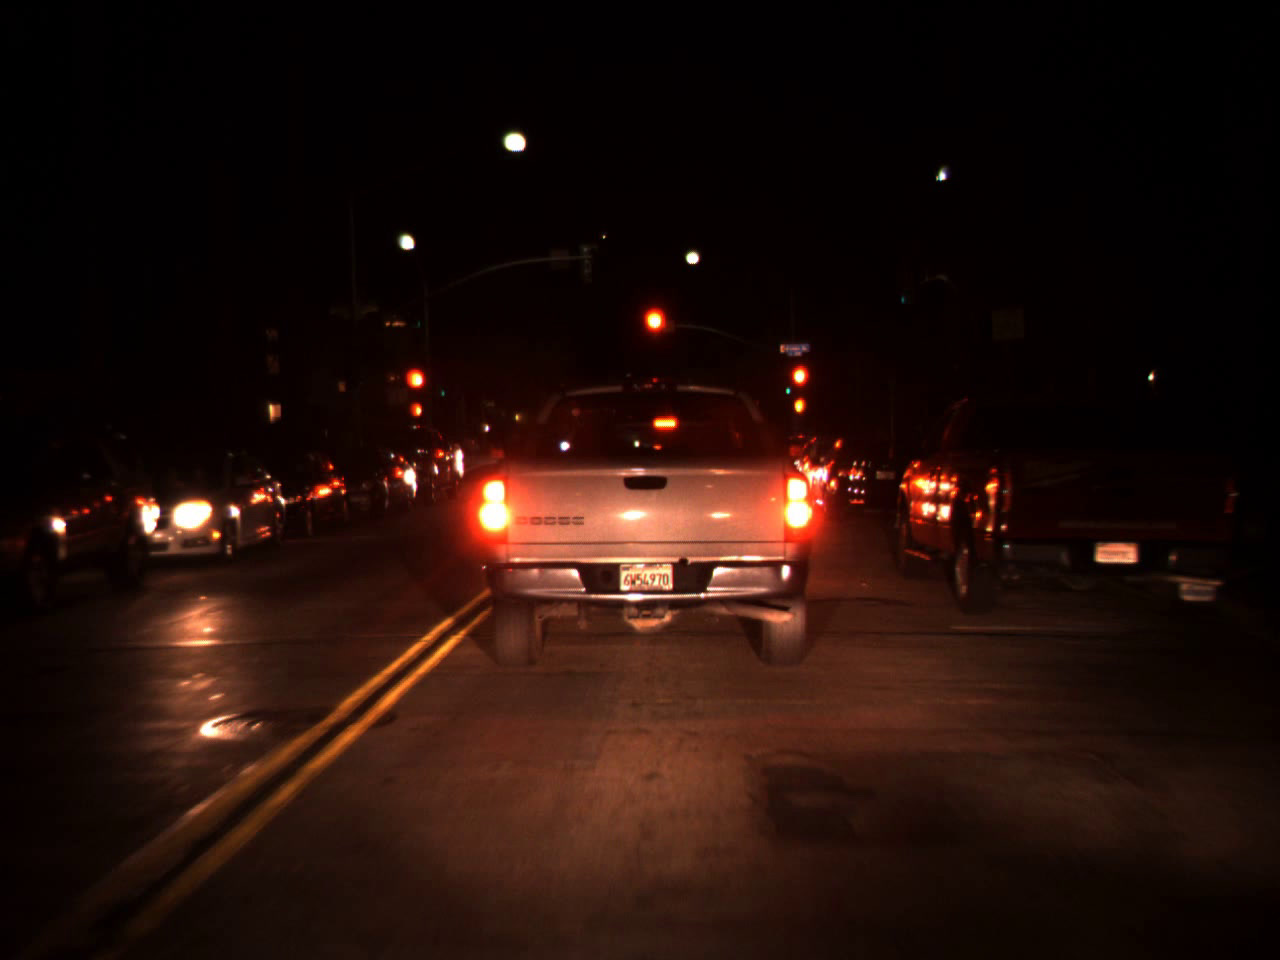stop: (640, 304, 670, 363), (788, 361, 812, 415), (404, 365, 428, 413)
